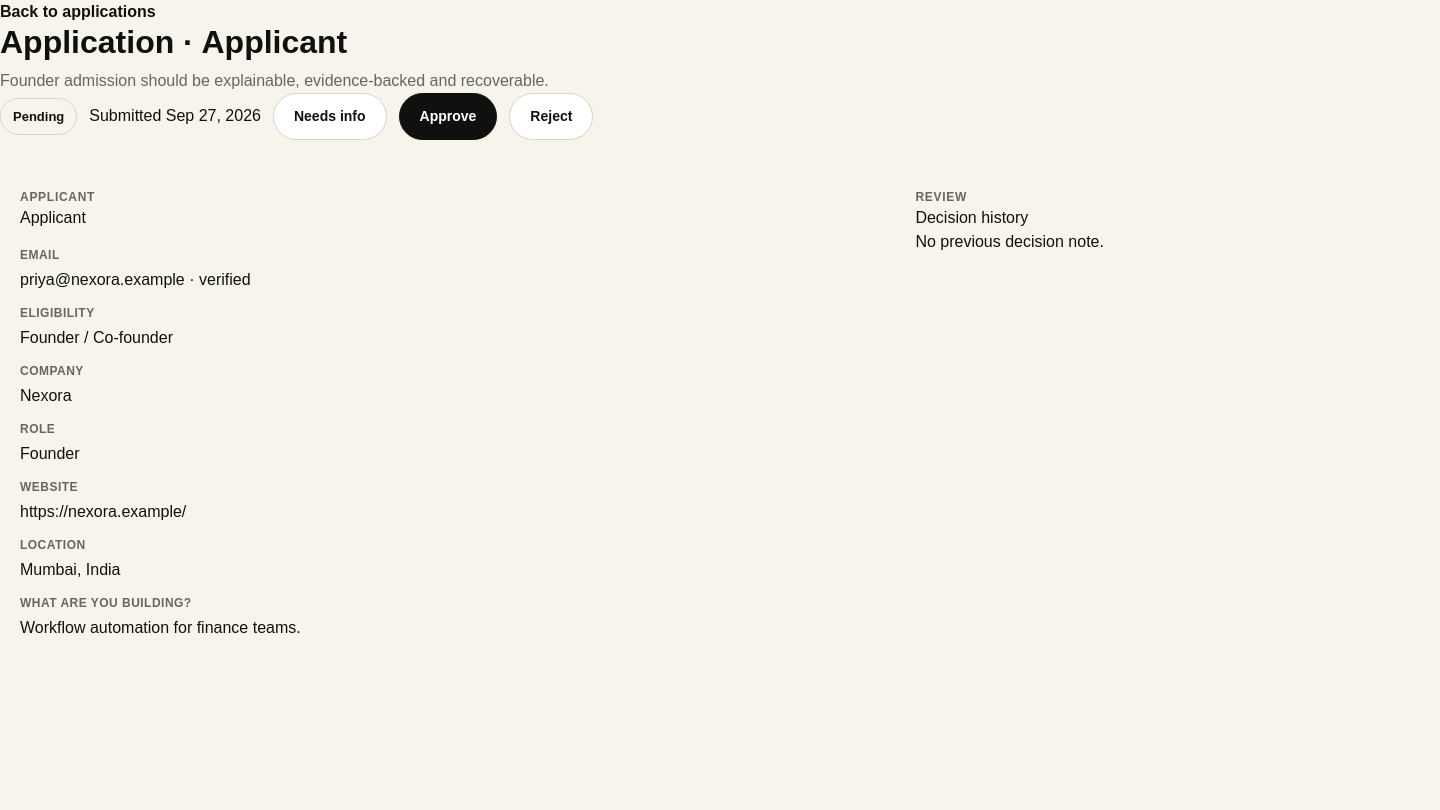
Scenario: FC-008 admin application review UI › validates needs-info and reject, then approves with server state
What coordinates should you click on to do the following:
click the button "Needs info"
I would click on:
 (330, 116)
Its box is top-left (273, 93), bottom-right (387, 140).
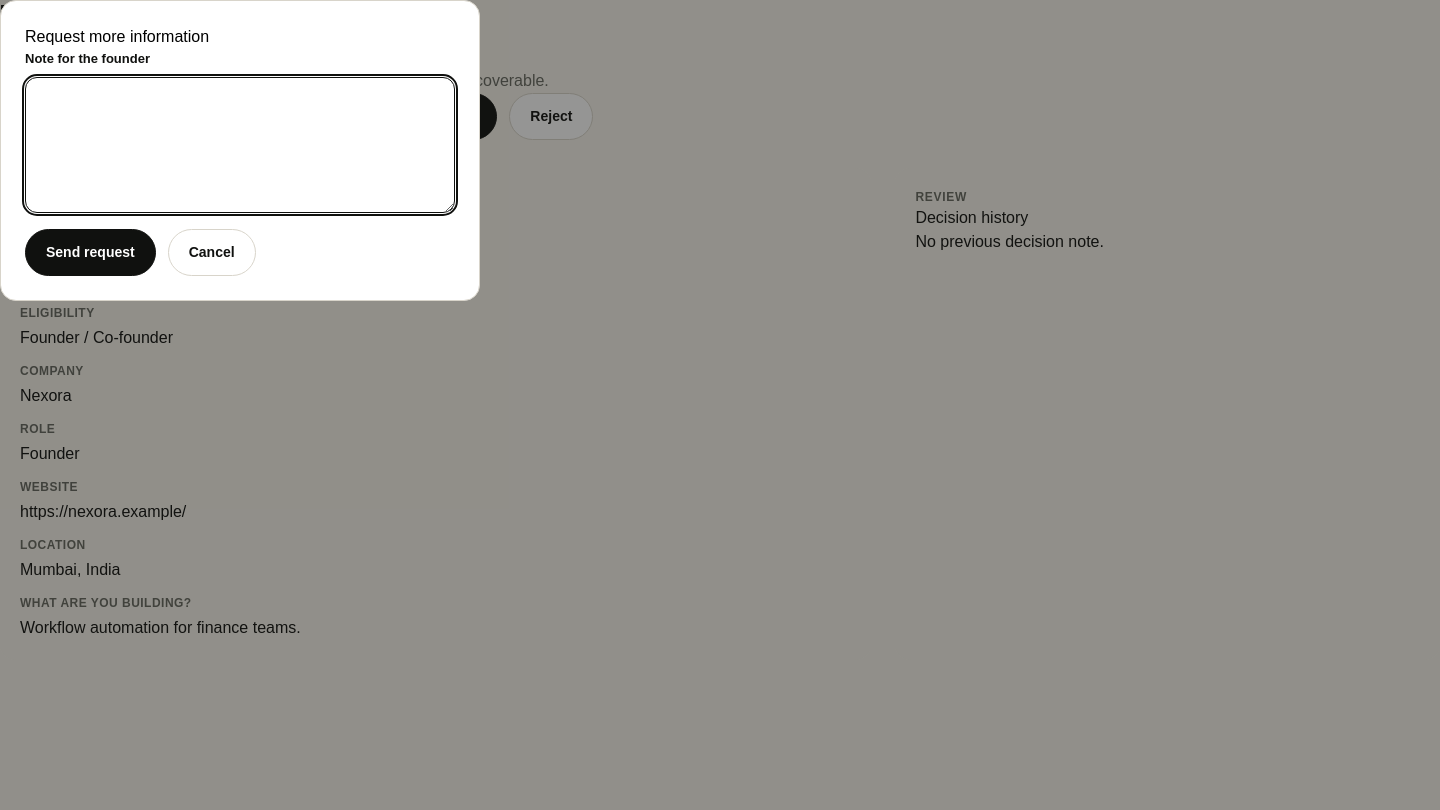
What coordinates should you click on to do the following:
click the button "Send request"
I would click on:
 (90, 252)
Its box is top-left (25, 228), bottom-right (156, 276).
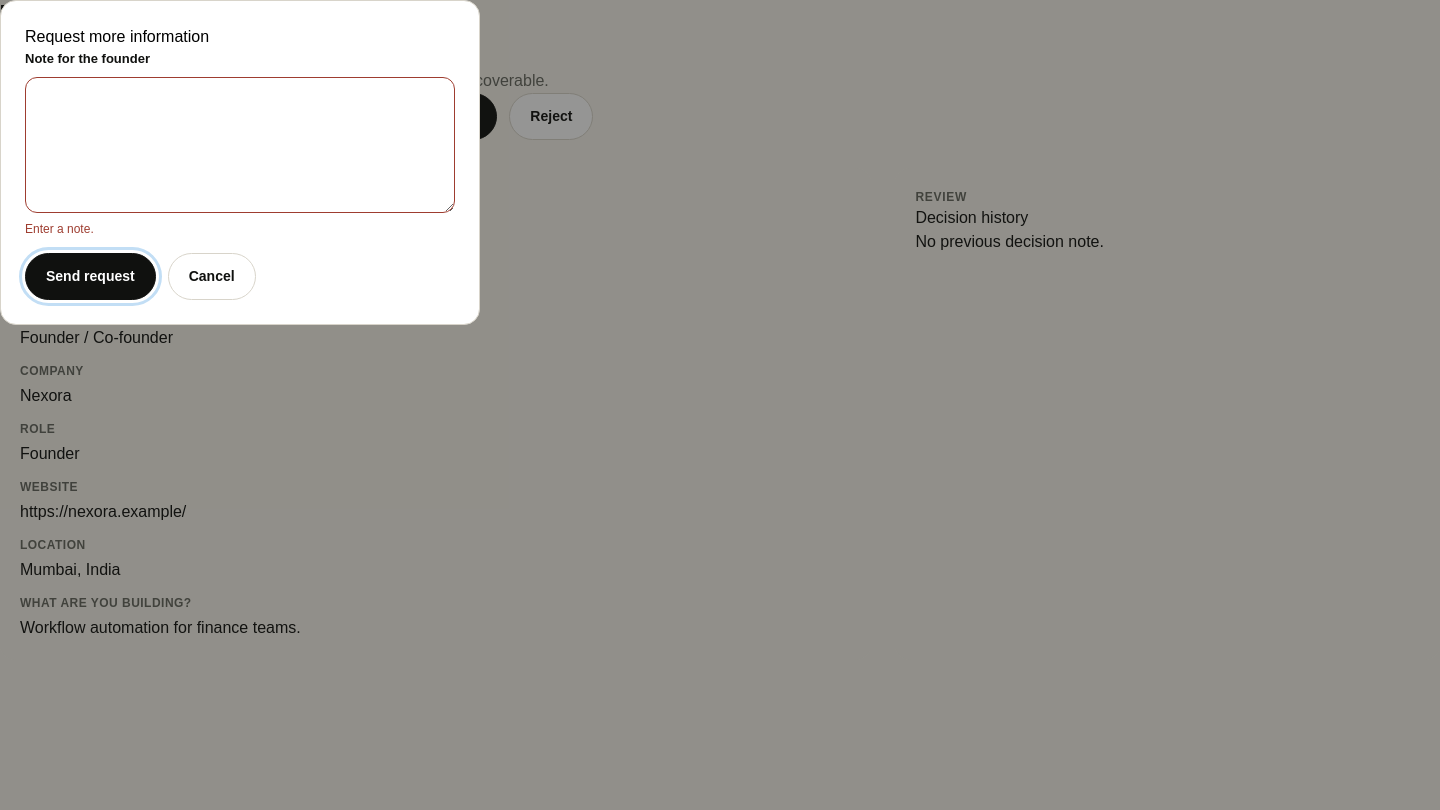
What coordinates should you click on to do the following:
click the button "Cancel"
I would click on:
 (212, 277)
Its box is top-left (168, 253), bottom-right (256, 300).
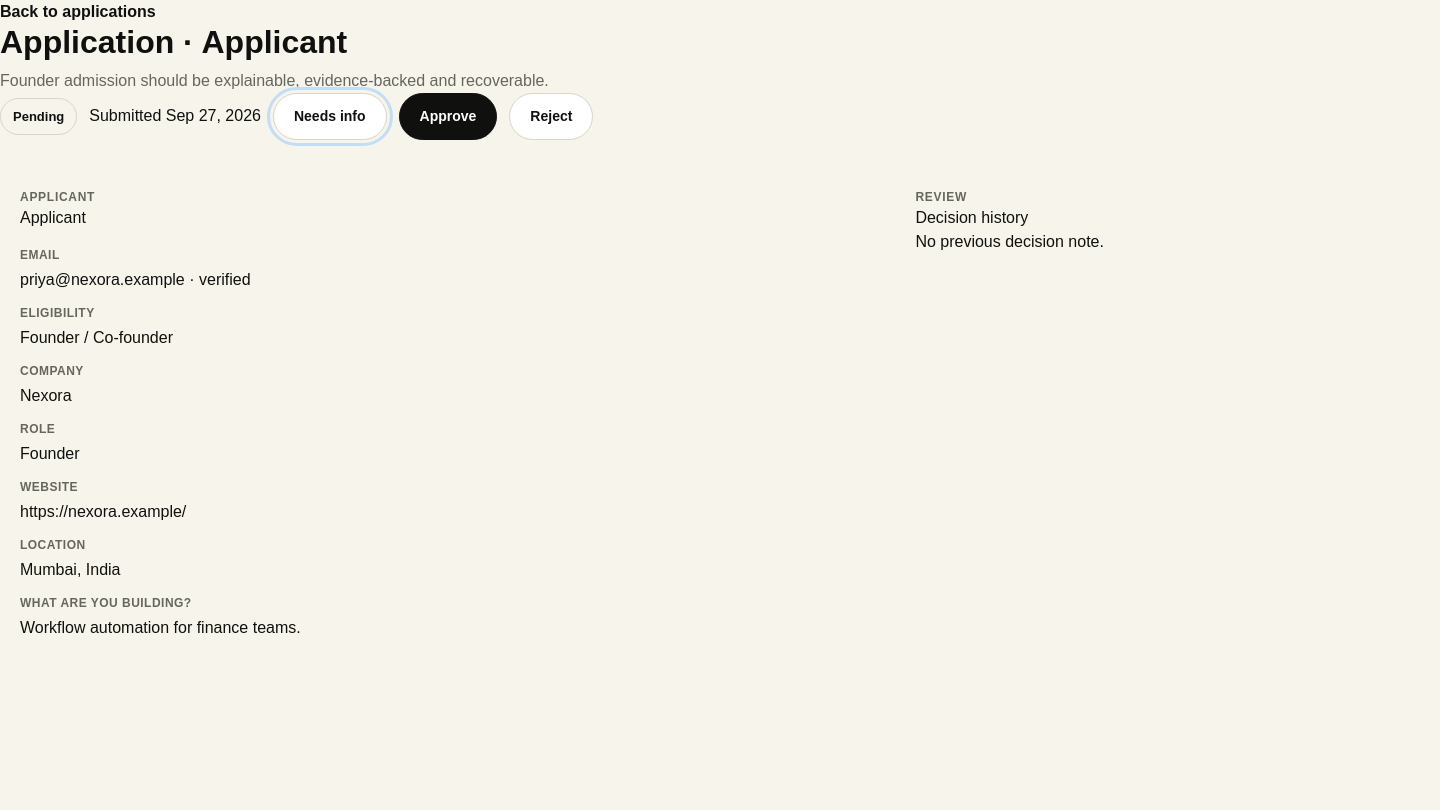
What coordinates should you click on to do the following:
click the button "Approve"
I would click on:
 (448, 116)
Its box is top-left (398, 93), bottom-right (497, 140).
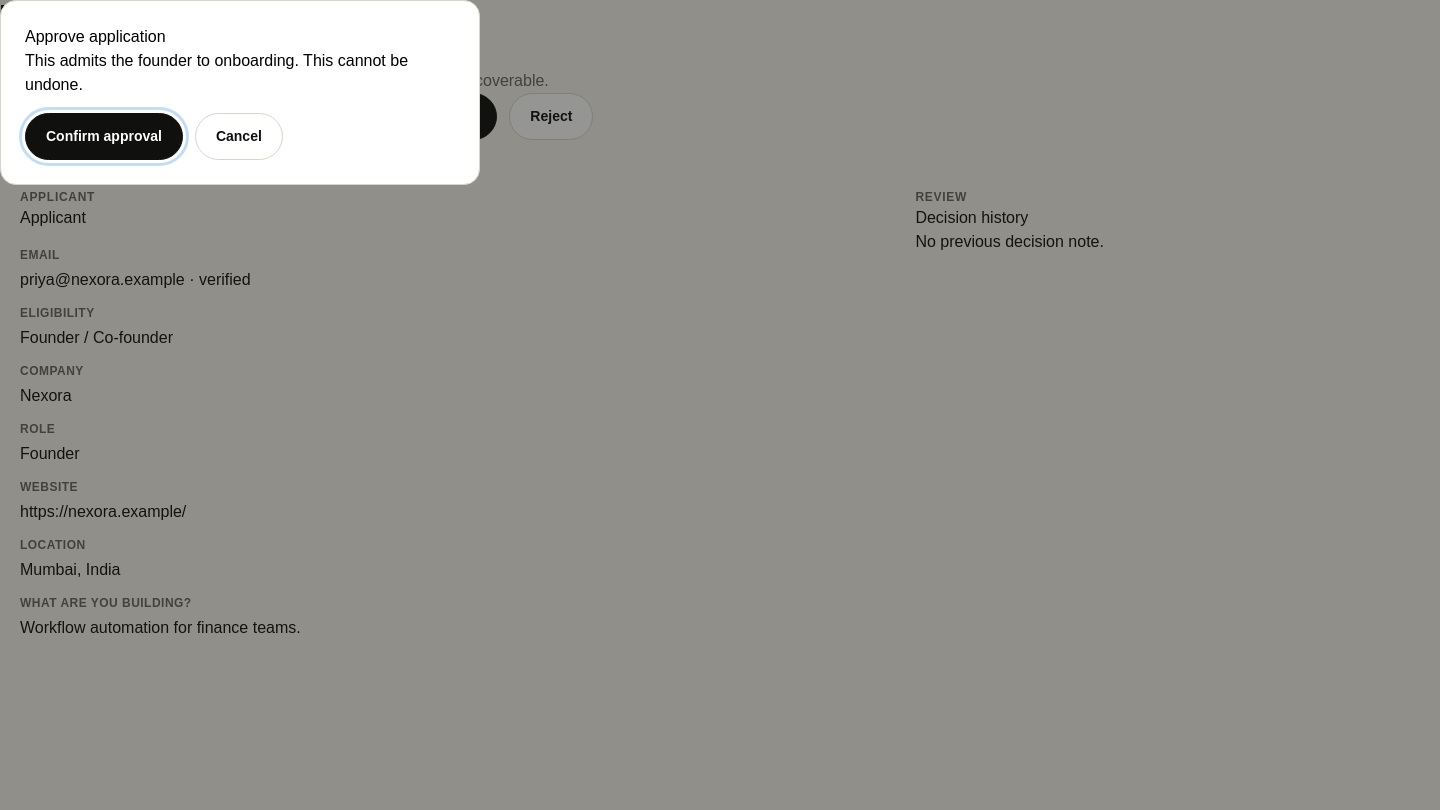
What coordinates should you click on to do the following:
click the button "Confirm approval"
I would click on:
 (104, 136)
Its box is top-left (25, 113), bottom-right (183, 160).
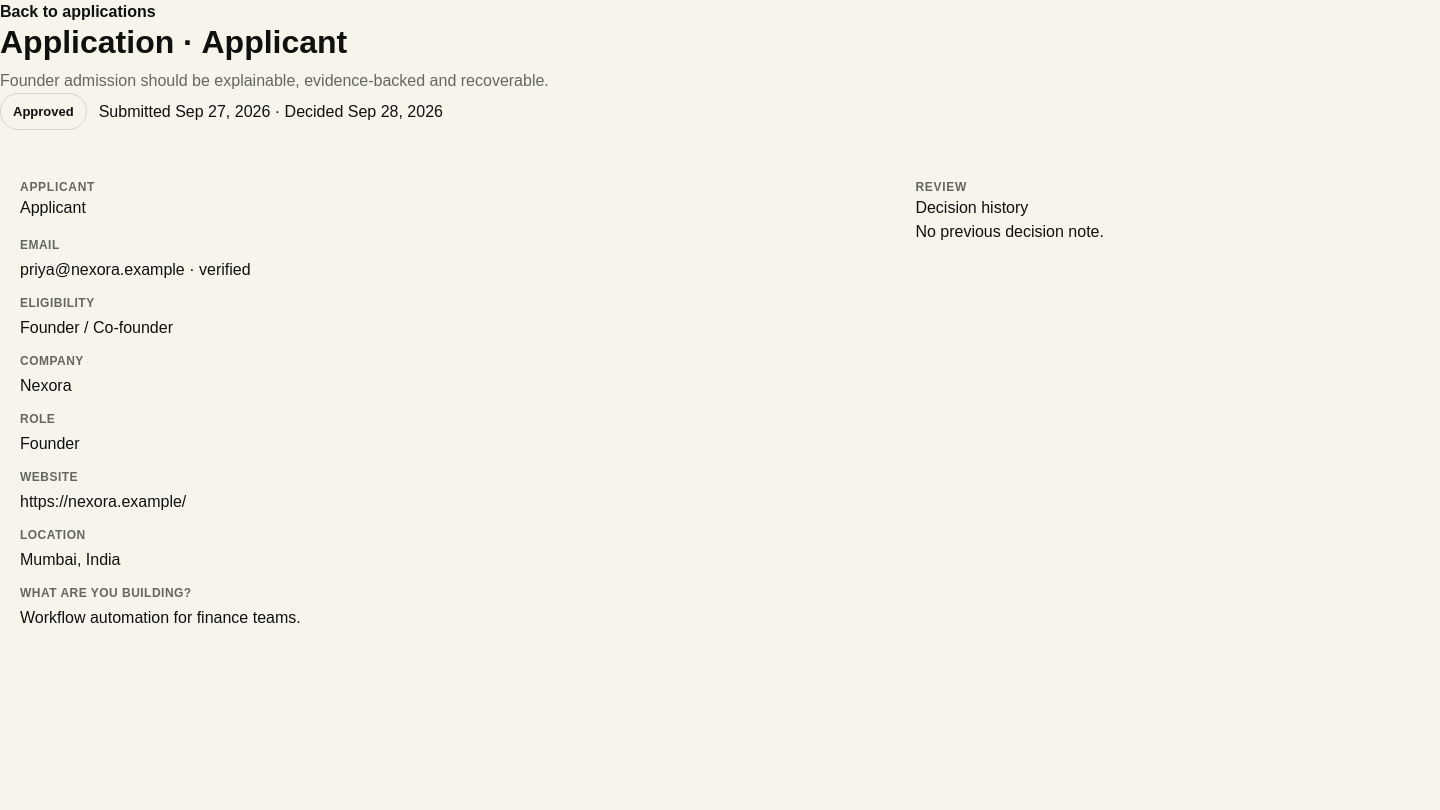
Check: the text "Approved" is shown, box top-left (0, 93), bottom-right (87, 130)
